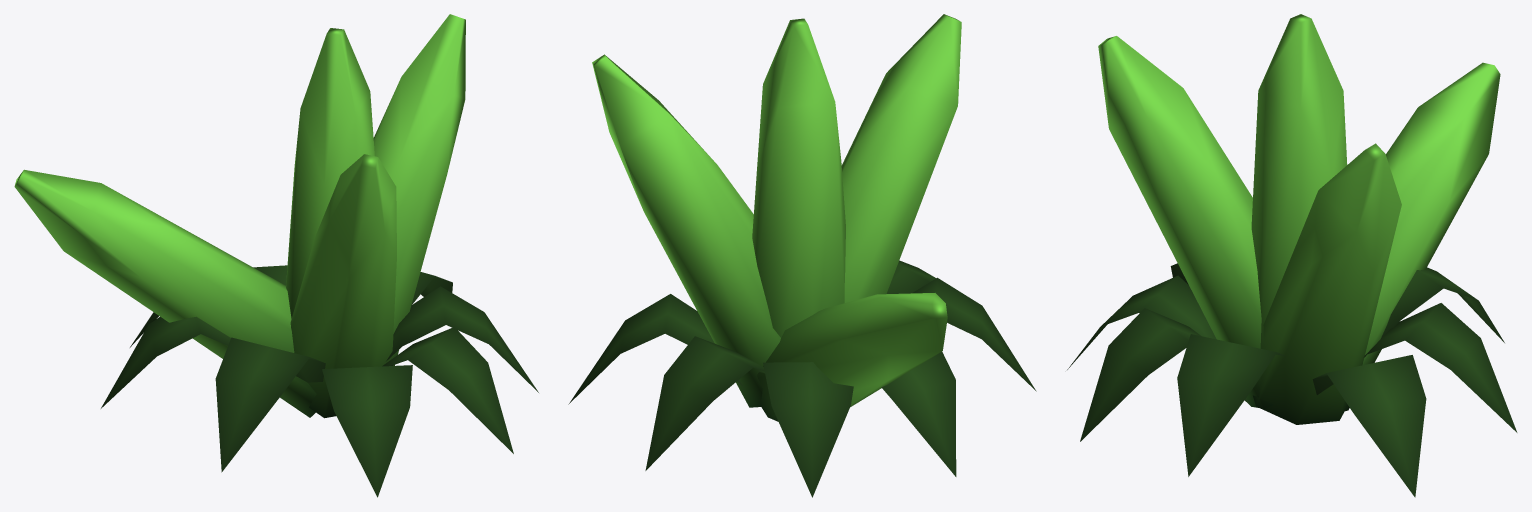
The model's file is Flower2.fbx.
3 renders of one model, left to right at view 1: azimuth 30°, elevation 25°; view 2: azimuth 150°, elevation 25°; view 3: azimuth 270°, elevation 25°, orthographic. The views are drawn at different scales.
Parts seen in each view (by area): view 1: pPlane67; view 2: pPlane67; view 3: pPlane67.
Part boxes in pixels (bbox=[...]): pPlane67: bbox=[14, 14, 538, 497]; pPlane67: bbox=[568, 14, 1036, 497]; pPlane67: bbox=[1067, 14, 1517, 497].
Bounding box in the file's own units: 64.59 × 59.18 × 59.63.
